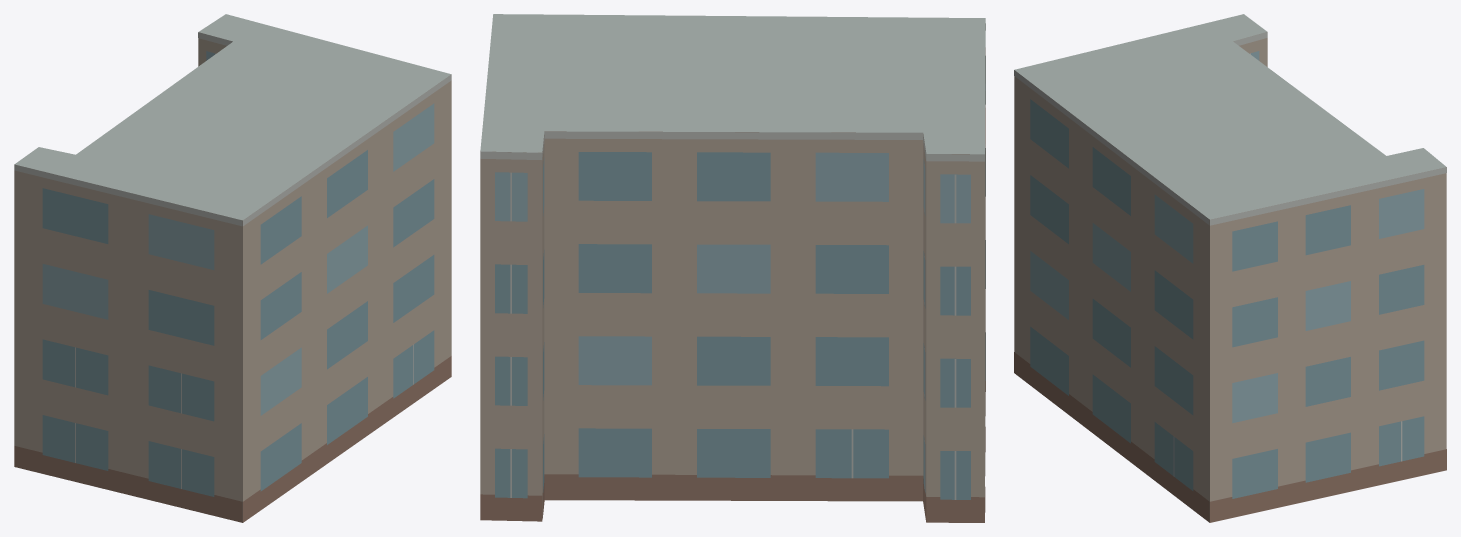
The model's file is survey-upis-32939165.glb.
3 views of the same model, side by side, from view 1: azimuth 30°, elevation 25°; view 2: azimuth 150°, elevation 25°; view 3: azimuth 270°, elevation 25° (orthographic). The views are drawn at different scales.
Visible parts, largest first — view 1: survey-upis-32939165.tmp; view 2: survey-upis-32939165.tmp; view 3: survey-upis-32939165.tmp.
Part boxes in pixels (x1,y1,x2,y2): survey-upis-32939165.tmp: (14,14,451,522); survey-upis-32939165.tmp: (480,14,985,522); survey-upis-32939165.tmp: (1014,14,1446,522).
Size of the model in its own units: 17.75 by 12.2 by 15.78.
